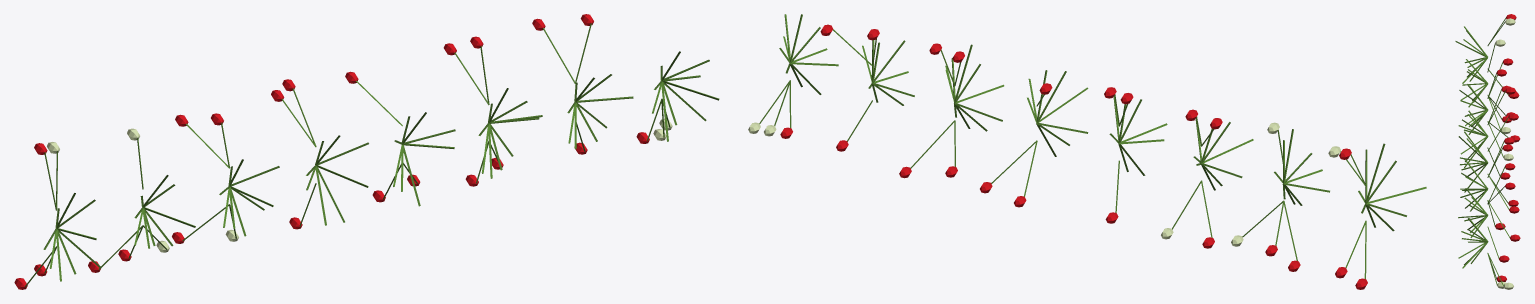
File: r2c1_rest.obj
3 renders of one model, left to right at view 1: azimuth 30°, elevation 25°; view 2: azimuth 150°, elevation 25°; view 3: azimuth 270°, elevation 25°, orthographic. The views are drawn at different scales.
Visible parts, largest first — view 1: r2c1_rest; view 2: r2c1_rest; view 3: r2c1_rest.
Boxes of the visible parts, bbox=[...] form: r2c1_rest: bbox=[14, 14, 719, 289]; r2c1_rest: bbox=[748, 14, 1426, 289]; r2c1_rest: bbox=[1455, 14, 1520, 289].
Bounding box in the file's own units: 1.96 × 0.4003 × 0.2618.
